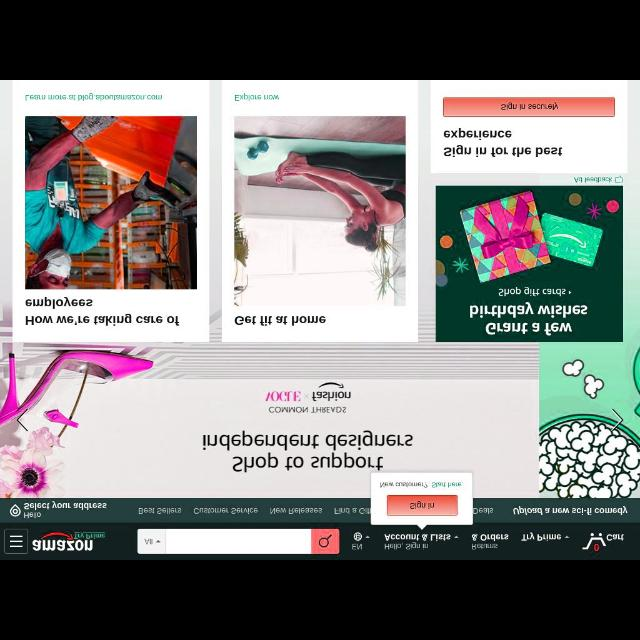backgroundimage: (1, 311, 639, 497)
button: (311, 529, 339, 553), (4, 528, 28, 554)
icon: (9, 535, 23, 547), (320, 534, 332, 548), (10, 504, 20, 516), (353, 532, 362, 540), (615, 175, 623, 182), (156, 539, 160, 543), (564, 536, 570, 538), (366, 536, 370, 538)
iframe: (436, 185, 624, 341)
image: (234, 116, 406, 306), (25, 116, 197, 290), (33, 532, 106, 550), (583, 532, 607, 552)
input: (137, 528, 339, 554)
multitab: (137, 507, 628, 515)
panel: (13, 80, 209, 342), (222, 81, 418, 342), (430, 81, 628, 173), (371, 472, 473, 526)
spinner: (384, 533, 460, 541), (520, 532, 570, 542), (352, 531, 371, 541), (145, 538, 161, 544)
text: (26, 296, 180, 326), (444, 128, 562, 156), (26, 93, 162, 101), (514, 506, 628, 514), (235, 316, 325, 326), (23, 500, 106, 510), (380, 482, 464, 488), (502, 102, 558, 110), (521, 532, 561, 542), (385, 534, 451, 540), (194, 508, 258, 514), (385, 542, 429, 550), (271, 508, 323, 514), (472, 533, 508, 541), (138, 507, 182, 513), (235, 94, 279, 100), (574, 177, 612, 183), (334, 508, 370, 514), (472, 542, 498, 550), (410, 501, 434, 509), (474, 508, 494, 514), (606, 534, 624, 540), (24, 512, 41, 518), (353, 542, 363, 550), (144, 539, 154, 545)
textbutton: (443, 98, 615, 116), (387, 494, 458, 516)
toolbar: (4, 528, 624, 554)
